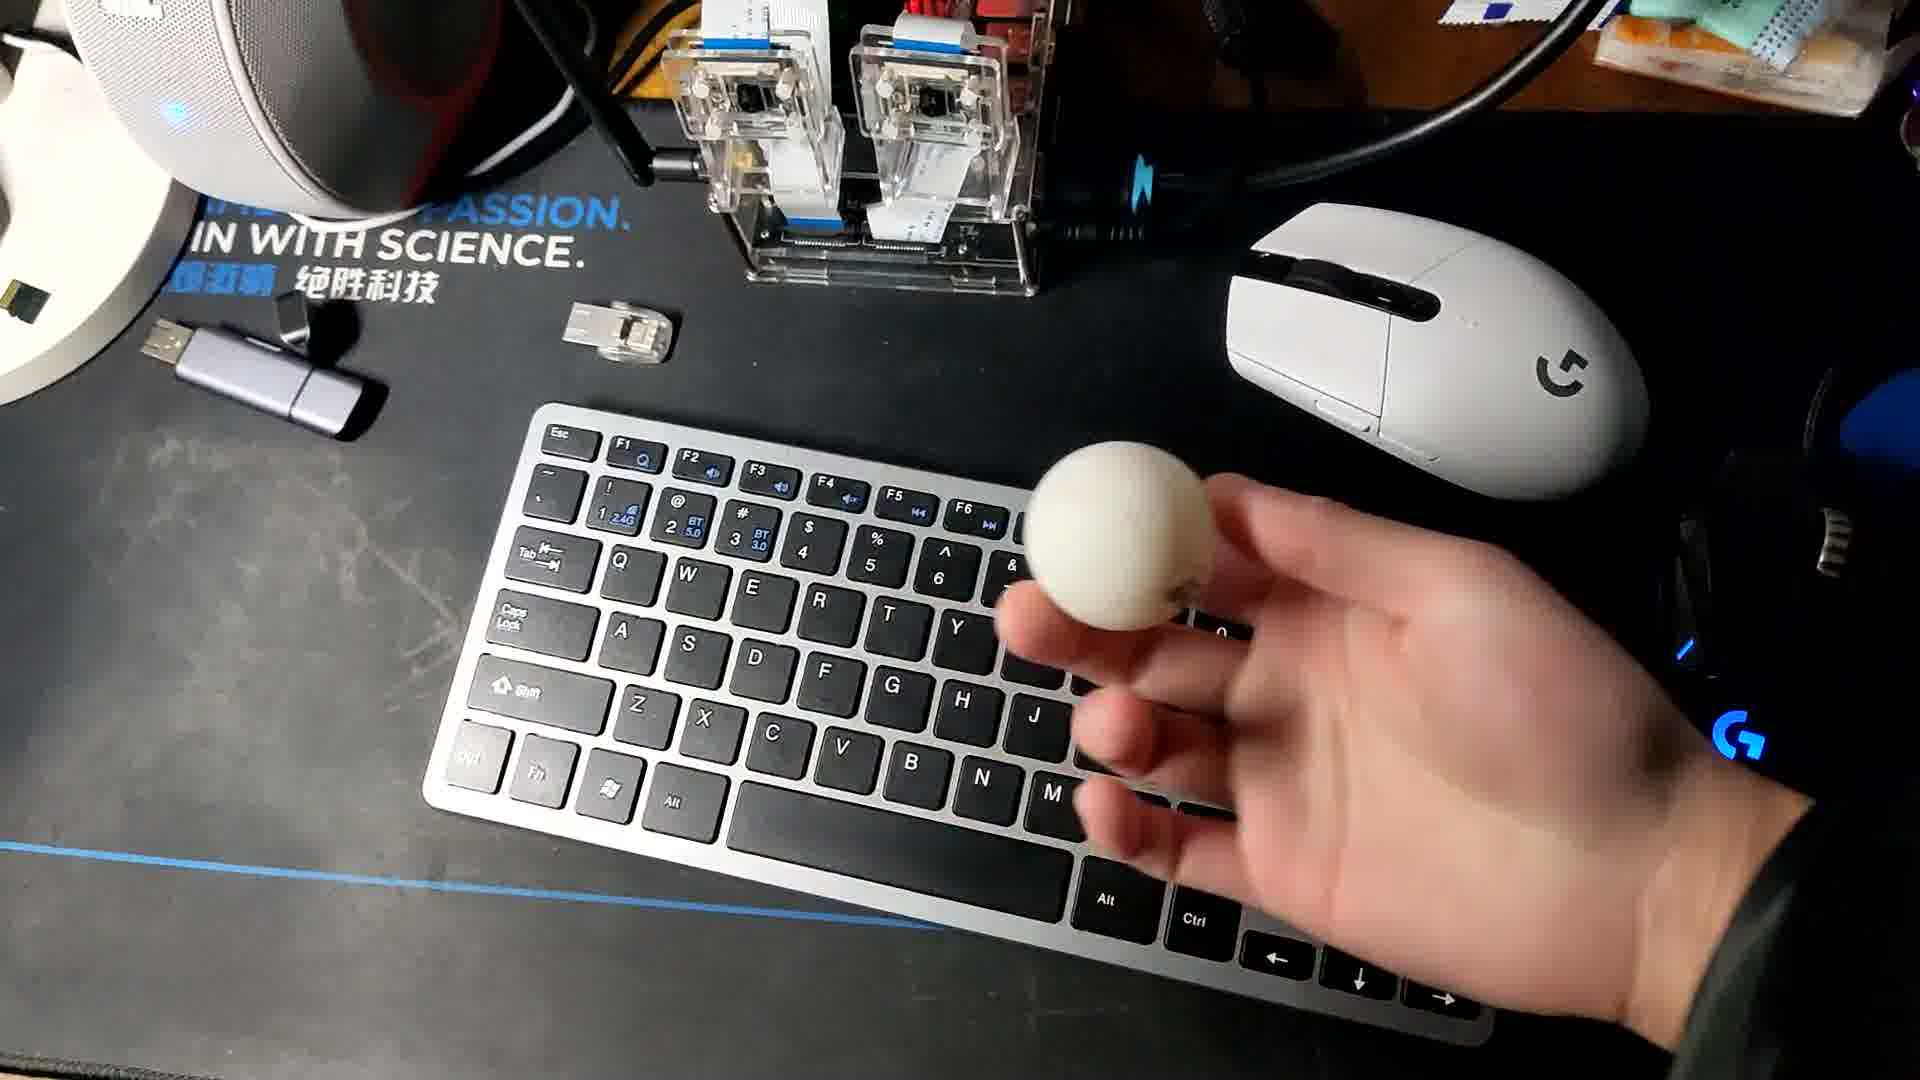Ball: (1027, 440, 1215, 636)
